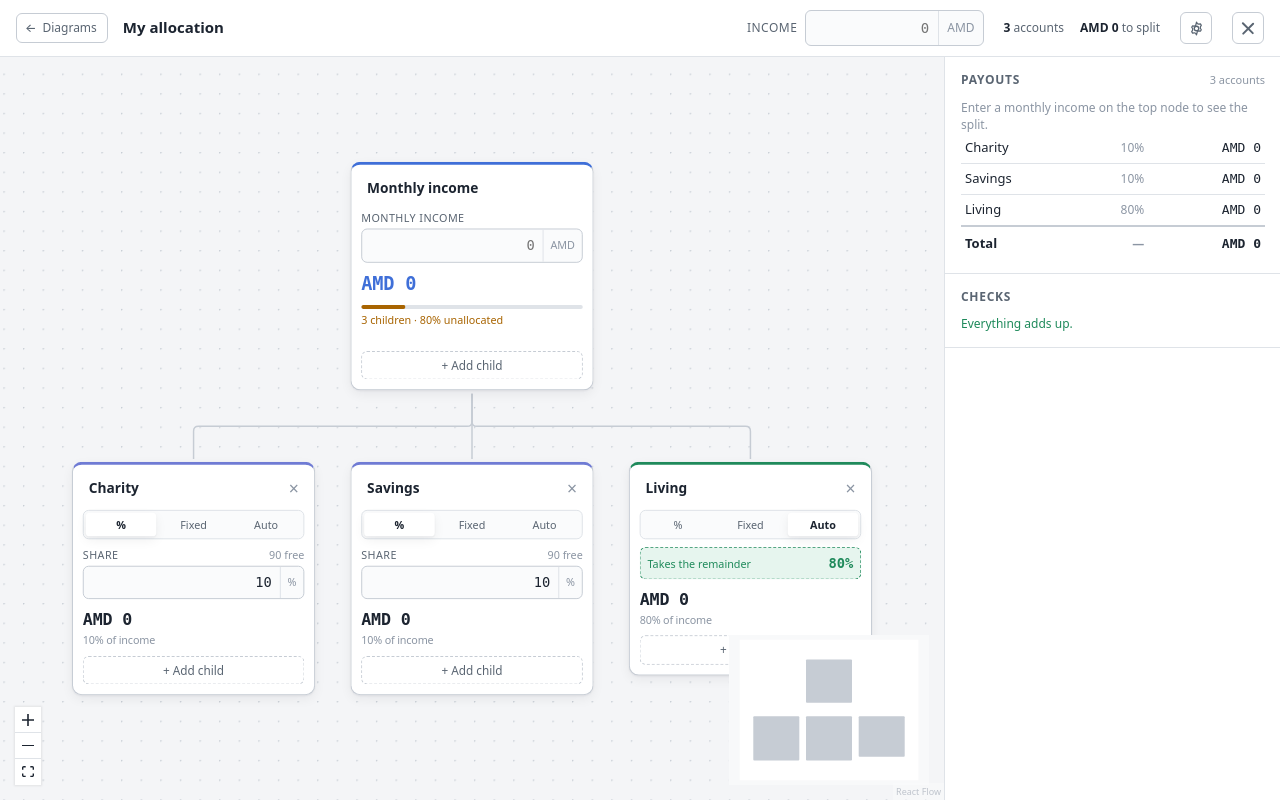
the settings menu › is reachable from the editor too, not only the list
Click the button named "Settings" at (1196, 28), box [1180,12,1212,44]
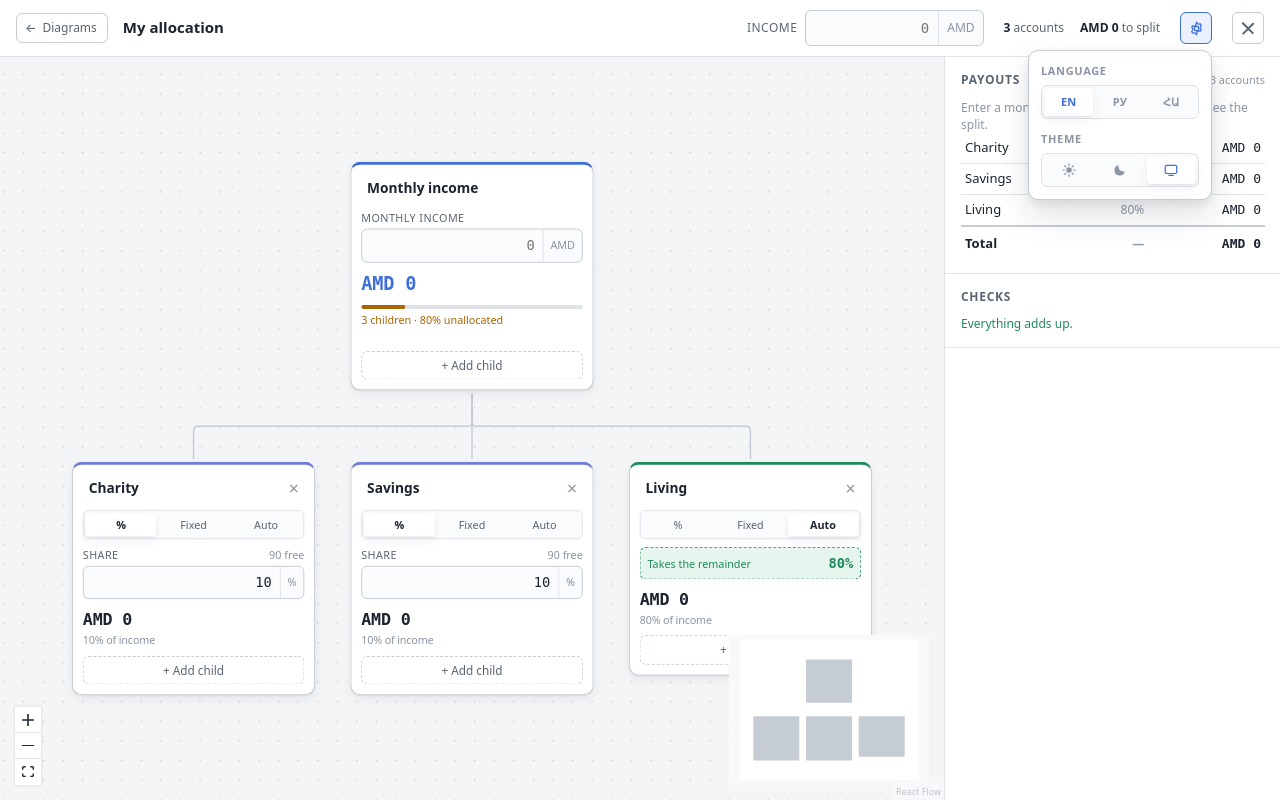
Now the dialog named "Settings" is shown, box [1028,50,1212,200]
